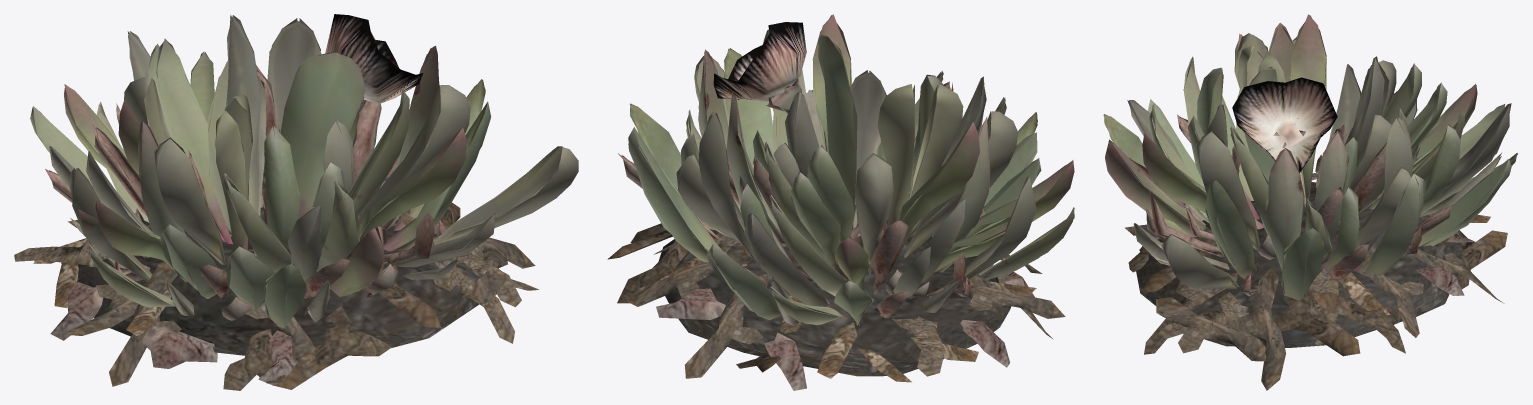
Rendered from cheiridopsis_succulent_h.gltf.lod.glb.
3 views of the same model, side by side, from view 1: azimuth 30°, elevation 25°; view 2: azimuth 150°, elevation 25°; view 3: azimuth 270°, elevation 25° (orthographic). The views are drawn at different scales.
Parts seen in each view (by area): view 1: cheiridopsis_succulent_e_LOD0; view 2: cheiridopsis_succulent_e_LOD0; view 3: cheiridopsis_succulent_e_LOD0.
Part boxes in pixels (x1=…): cheiridopsis_succulent_e_LOD0: x1=14, y1=14, x2=578, y2=390; cheiridopsis_succulent_e_LOD0: x1=607, y1=14, x2=1074, y2=390; cheiridopsis_succulent_e_LOD0: x1=1103, y1=14, x2=1517, y2=390.
Bounding box in the file's own units: 0.3935 × 0.2277 × 0.3469.
Materials: 2 (2 with a texture image).
